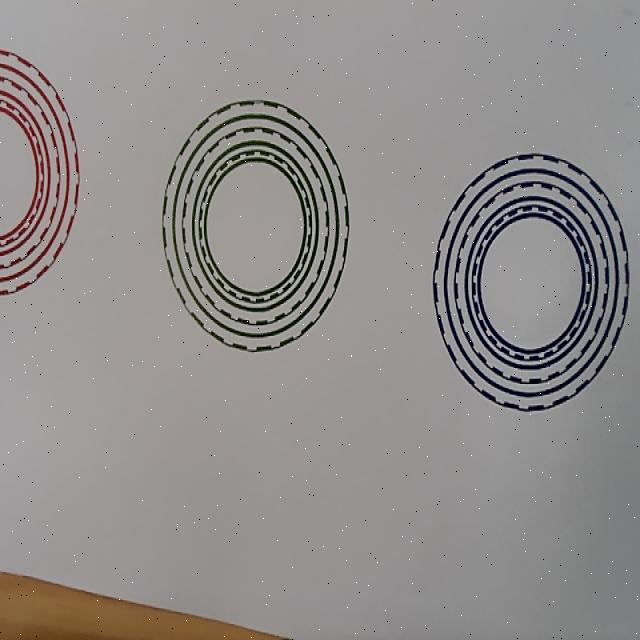b: (433, 154, 630, 412)
g: (162, 99, 349, 354)
